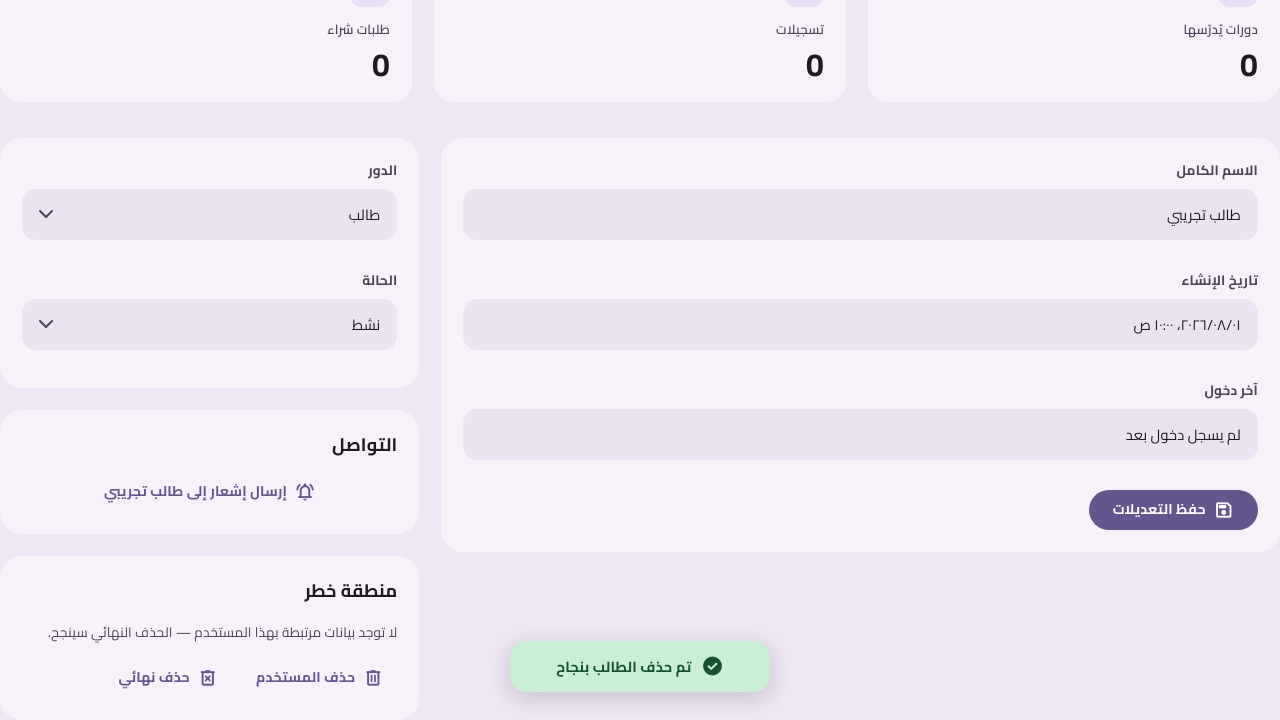
Test: AdminUserDetailPage — Student Deletion Flow › shows error toast when deletion request fails
(page scrolled)
What coordinates should you click on to do the following:
click the button "حذف المستخدم"
I would click on:
 (320, 678)
Its box is left=242, top=658, right=397, bottom=698.
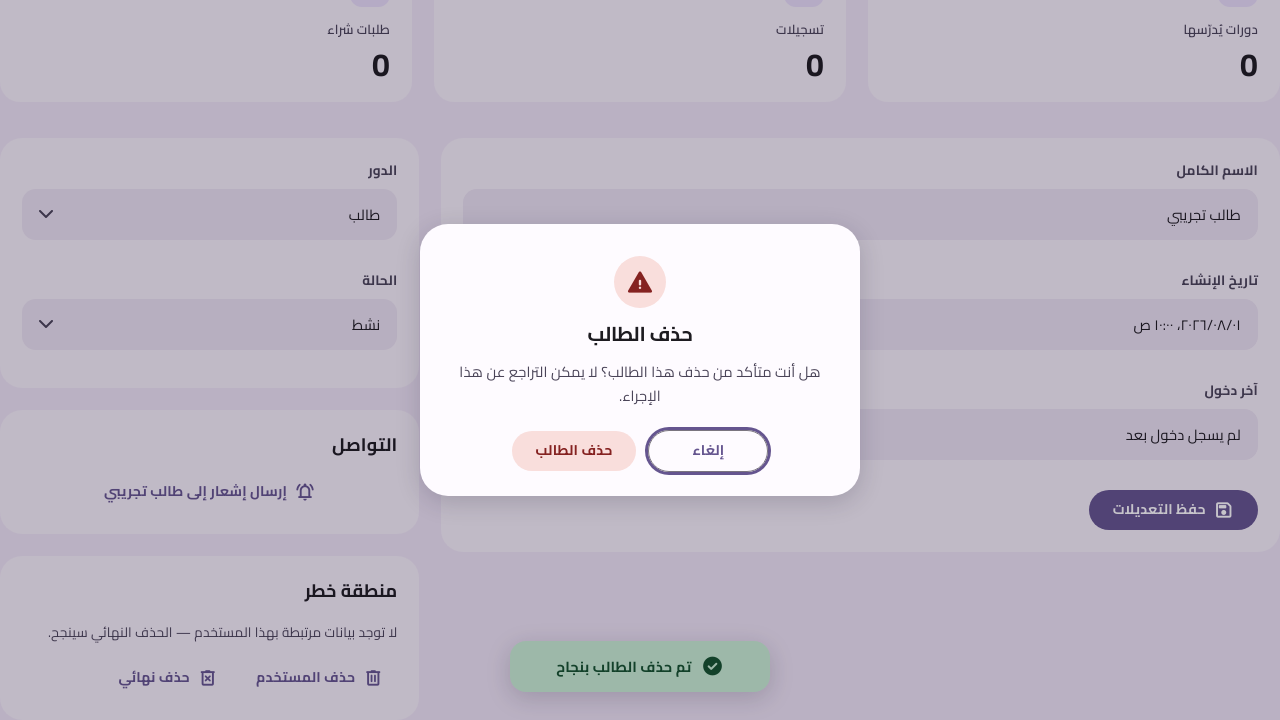
What coordinates should you click on to do the following:
click the button with test id "confirm-modal-confirm"
I would click on:
 (574, 451)
Its box is left=512, top=431, right=636, bottom=470.
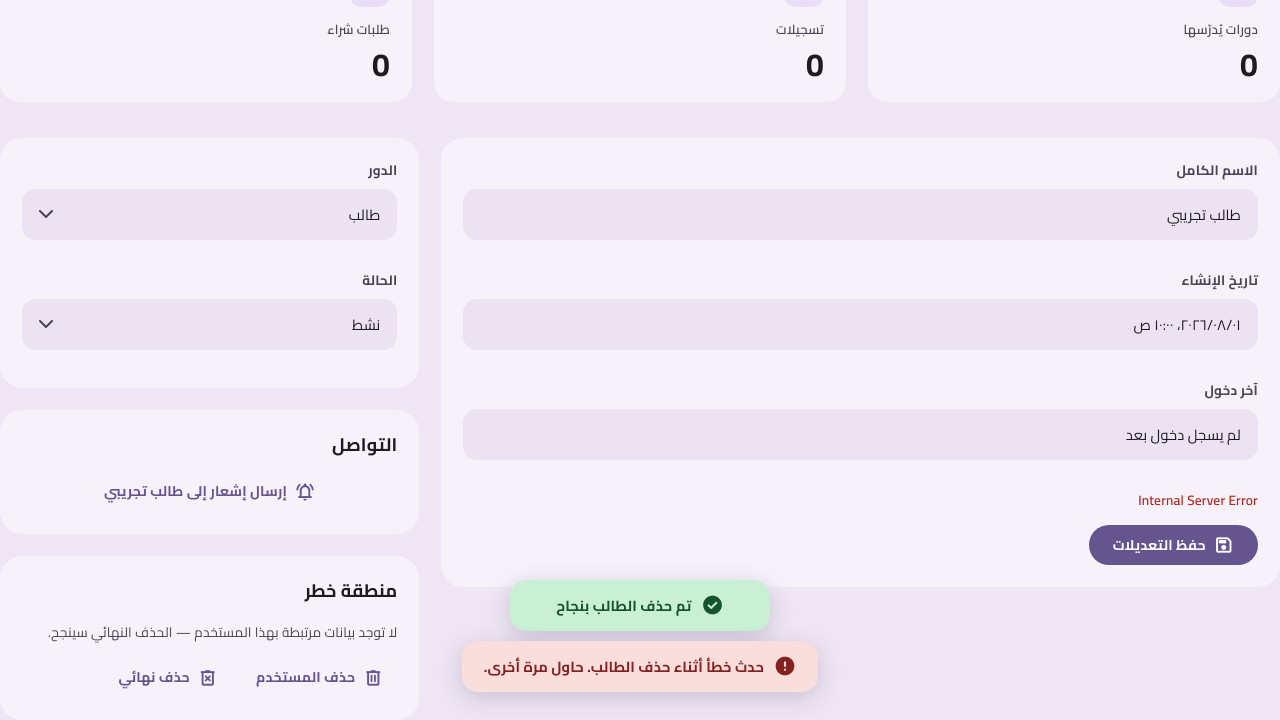
expect the text "حدث خطأ أثناء حذف الطالب. حاول مرة أخرى." is shown: met, box left=484, top=655, right=764, bottom=678
